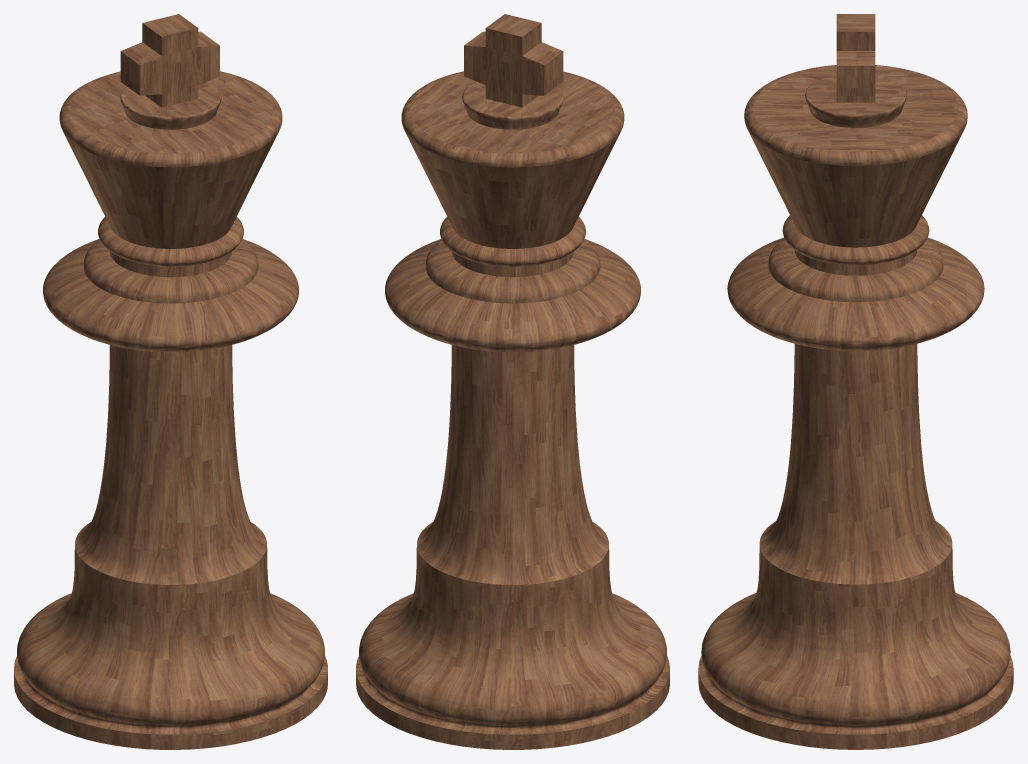
File: model_king.glb
3 views of the same model, side by side, from view 1: azimuth 30°, elevation 25°; view 2: azimuth 150°, elevation 25°; view 3: azimuth 270°, elevation 25° (orthographic).
Visible parts, largest first — view 1: QUEEN; view 2: QUEEN; view 3: QUEEN.
Boxes of the visible parts, left/top/right/bottom form: QUEEN: left=14, top=14, right=327, bottom=749; QUEEN: left=356, top=14, right=669, bottom=749; QUEEN: left=698, top=14, right=1013, bottom=749.
Bounding box in the file's own units: 0.9176 × 2.12 × 0.9176.
Materials: 1 (1 with a texture image).
